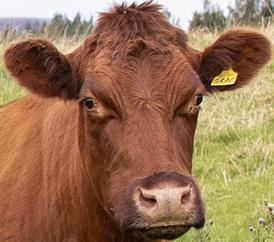muzzles: (115, 179, 208, 242)
